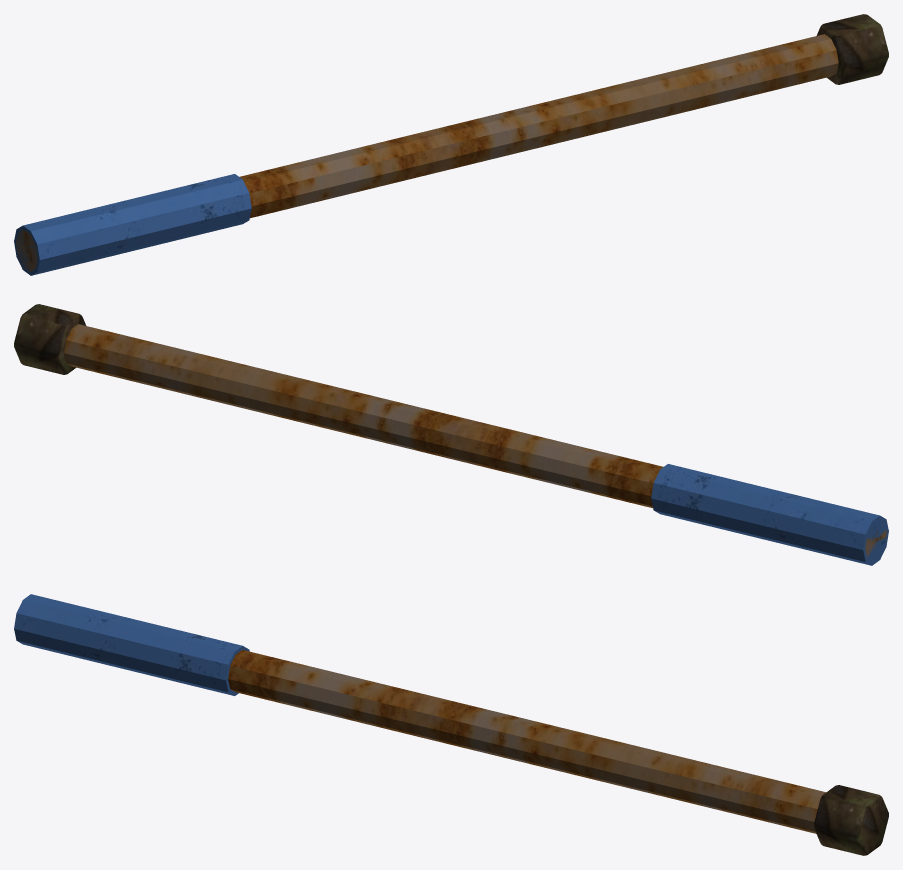
File: held_weapon_pipe.glb
The picture shows the model from 3 angles, top to bottom: view 1: azimuth 30°, elevation 25°; view 2: azimuth 150°, elevation 25°; view 3: azimuth 330°, elevation 25°; orthographic projection.
Visible parts, largest first — view 1: cyl, cyl.001, cyl.002; view 2: cyl, cyl.001, cyl.002; view 3: cyl, cyl.001, cyl.002.
Part boxes in pixels (x1,y1,x2,y2): cyl: [16, 34, 838, 271]; cyl.001: [14, 174, 251, 275]; cyl.002: [816, 14, 888, 84]; cyl: [64, 324, 886, 558]; cyl.001: [651, 464, 888, 565]; cyl.002: [14, 304, 86, 374]; cyl: [228, 650, 825, 833]; cyl.001: [14, 594, 249, 695]; cyl.002: [814, 785, 888, 855].
Size of the model in its own units: 0.72 by 0.0416 by 0.0464.
3 materials, 3 textured.
